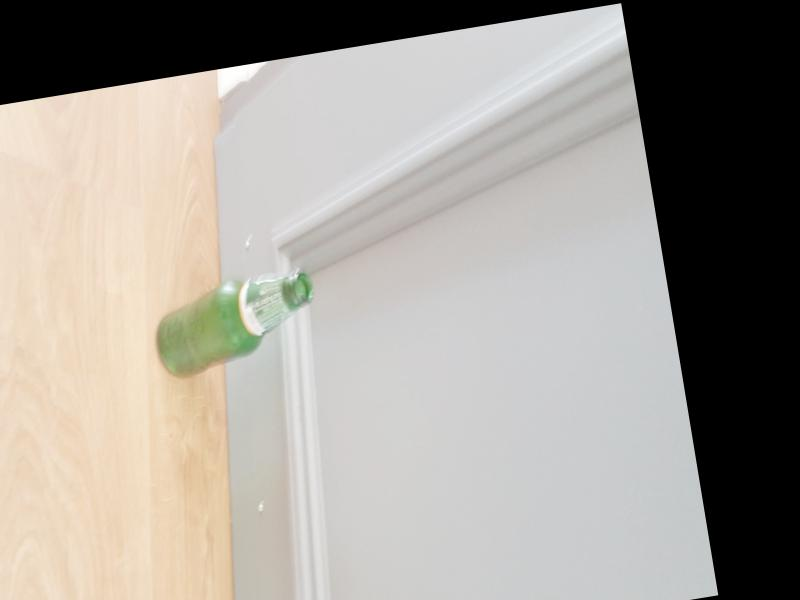Beer: (149, 270, 321, 378)
